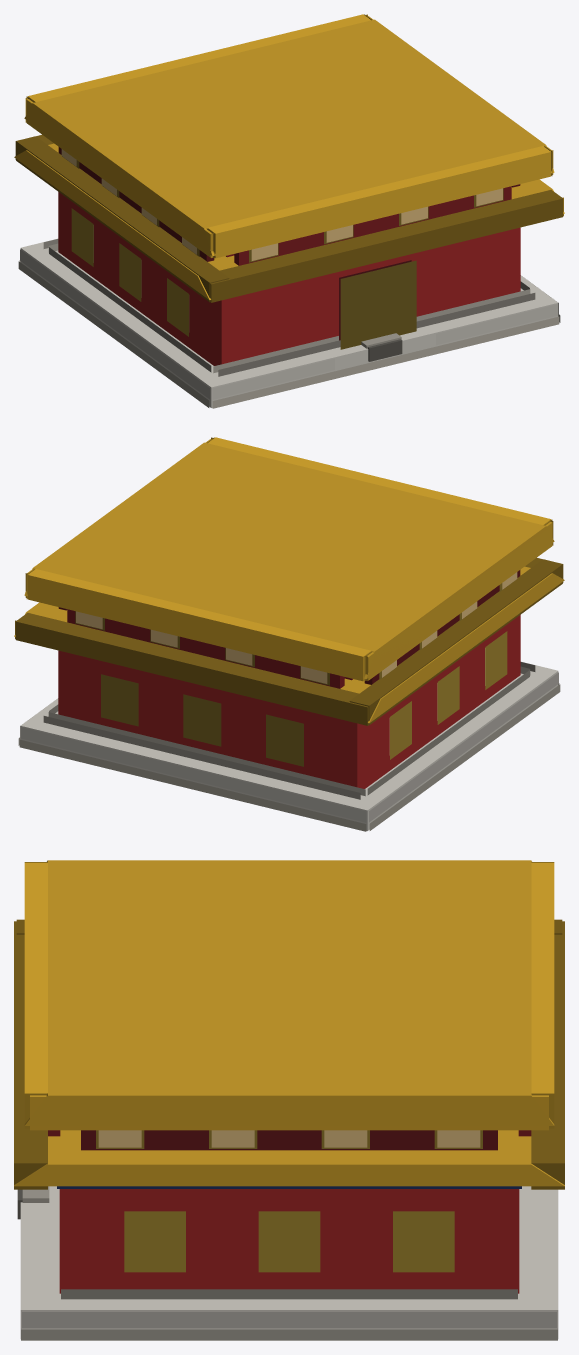
Rendered from ThreeTailEmperorSil.fbx.
3 renders of one model, top to bottom at view 1: azimuth 30°, elevation 25°; view 2: azimuth 150°, elevation 25°; view 3: azimuth 270°, elevation 25°, orthographic. The views are drawn at different scales.
Parts seen in each view (by area): view 1: EP_S_All; view 2: EP_S_All; view 3: EP_S_All.
Part boxes in pixels (bbox=[...]): EP_S_All: bbox=[14, 14, 564, 408]; EP_S_All: bbox=[14, 437, 564, 831]; EP_S_All: bbox=[14, 860, 564, 1340].
Bounding box in the file's own units: 43.04 × 19.9 × 41.04.
